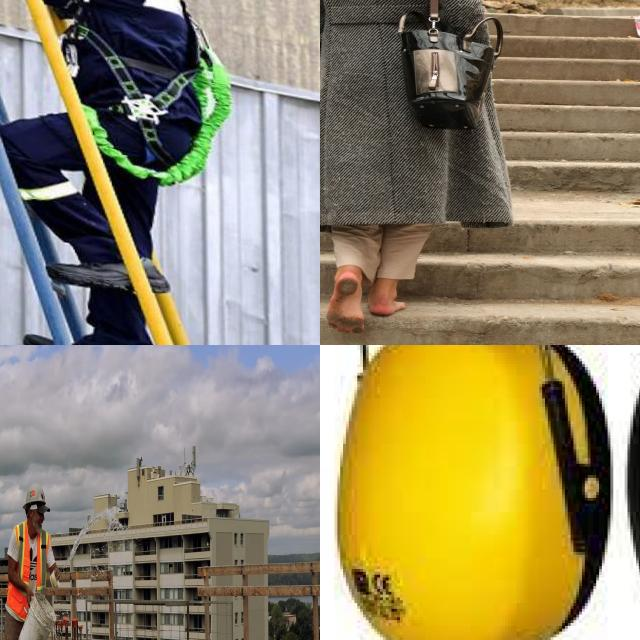Barefoots: (326, 273, 364, 334), (368, 294, 407, 317)
Ear-protection: (371, 345, 640, 640)
Harness: (69, 0, 233, 187)
head_helmet: (23, 486, 49, 512)
person: (0, 482, 58, 640)
vest: (5, 521, 50, 623)
